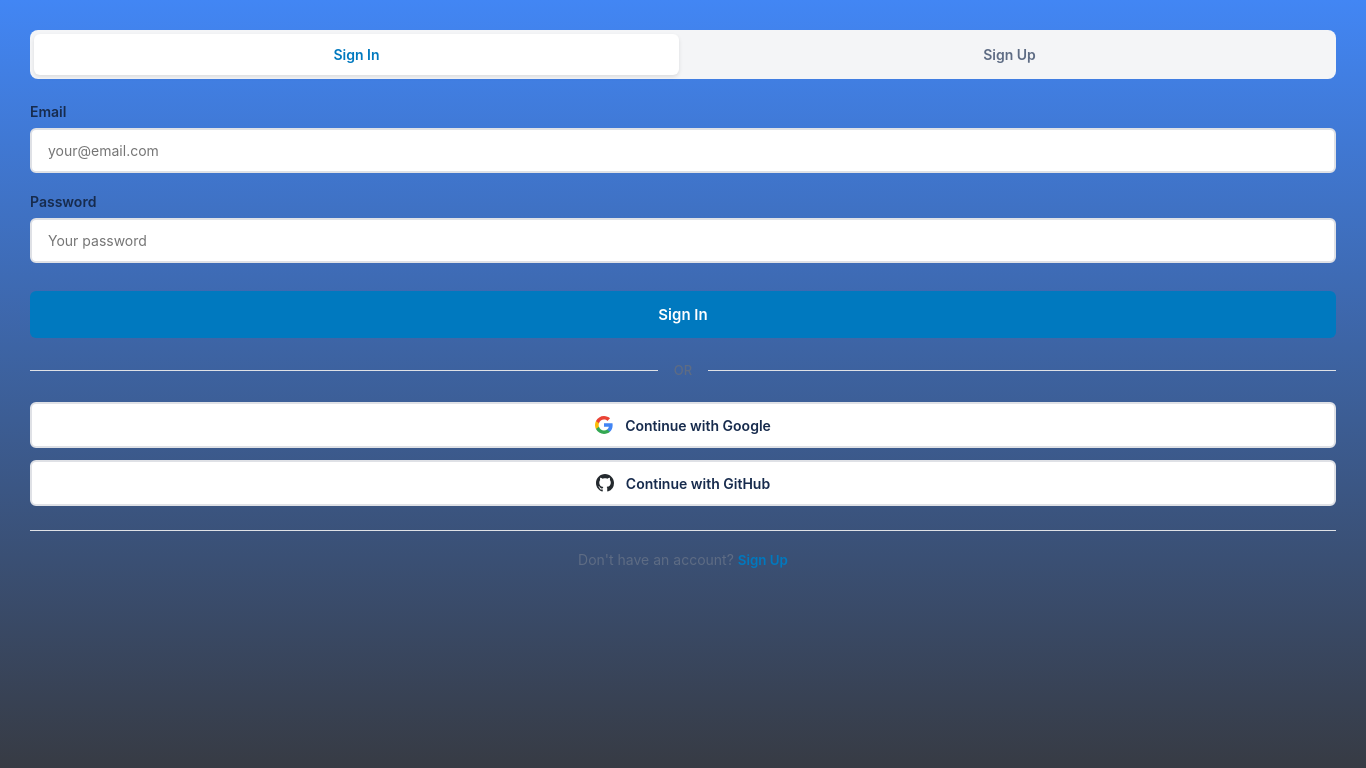
Test: AuthForm › should handle sign up error
Click the 1st button "Sign Up".
click(1010, 54)  # box [687, 34, 1332, 75]
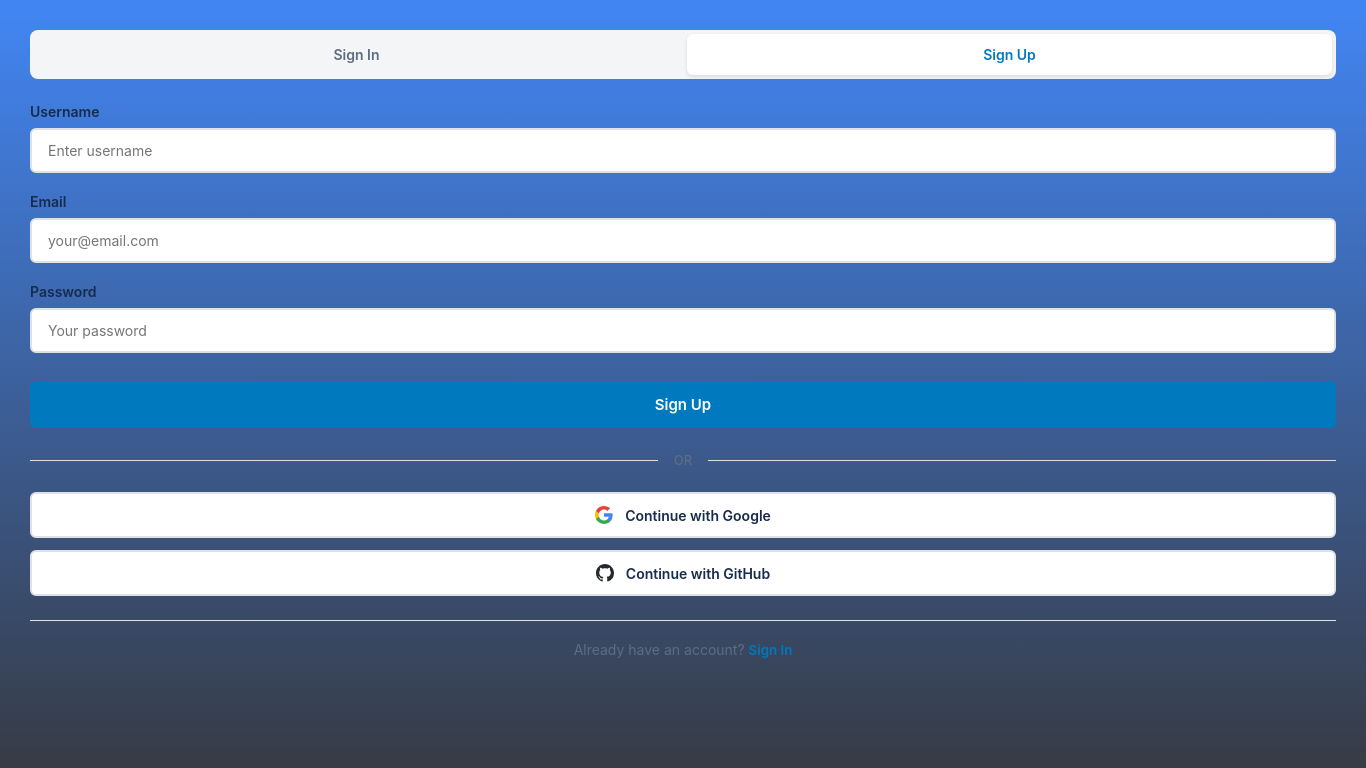
Type "user" into the field labelled "Username".
click(683, 150); type("user")  # box [30, 128, 1336, 173]
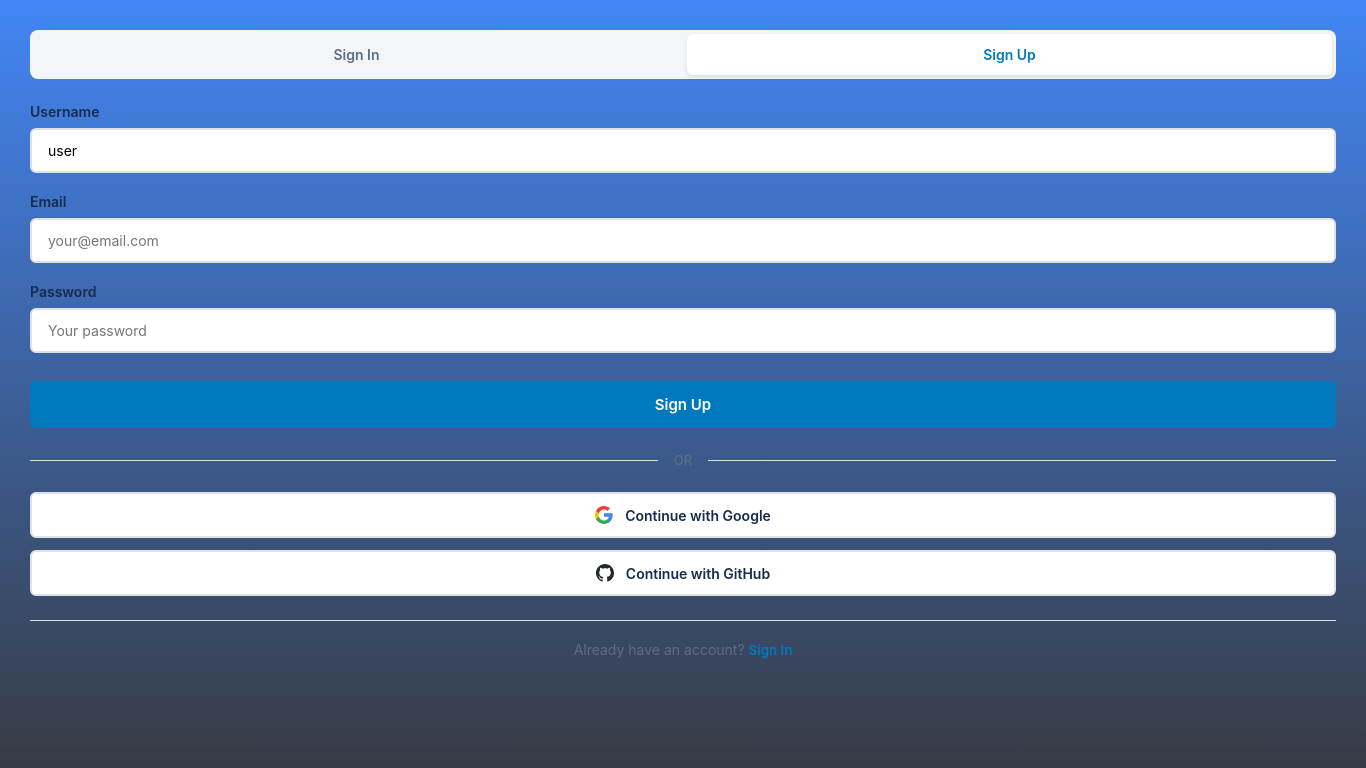
Type "test@test.com" into the field labelled "Email".
click(683, 240); type("test@test.com")  # box [30, 218, 1336, 263]
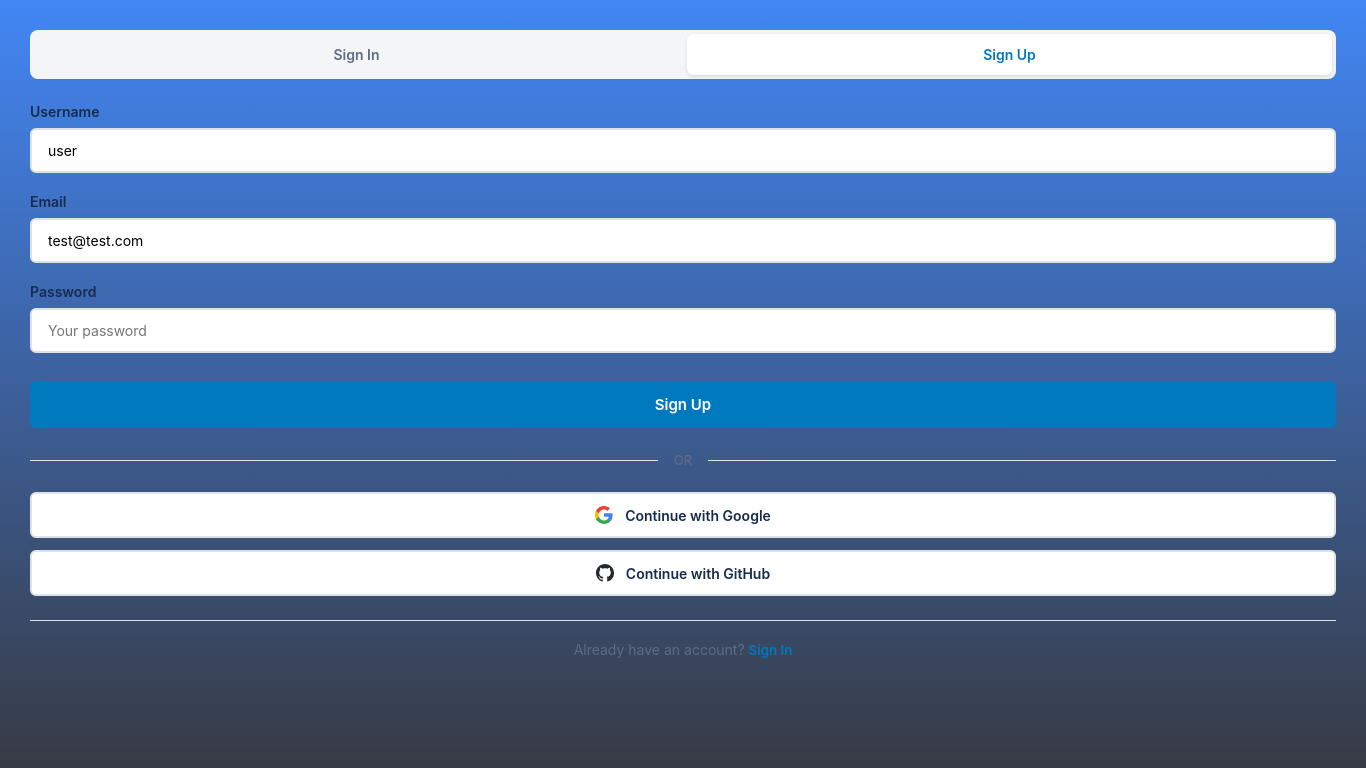
Type "password" into the password field labelled "Password".
click(683, 330); type("password")  # box [30, 308, 1336, 353]
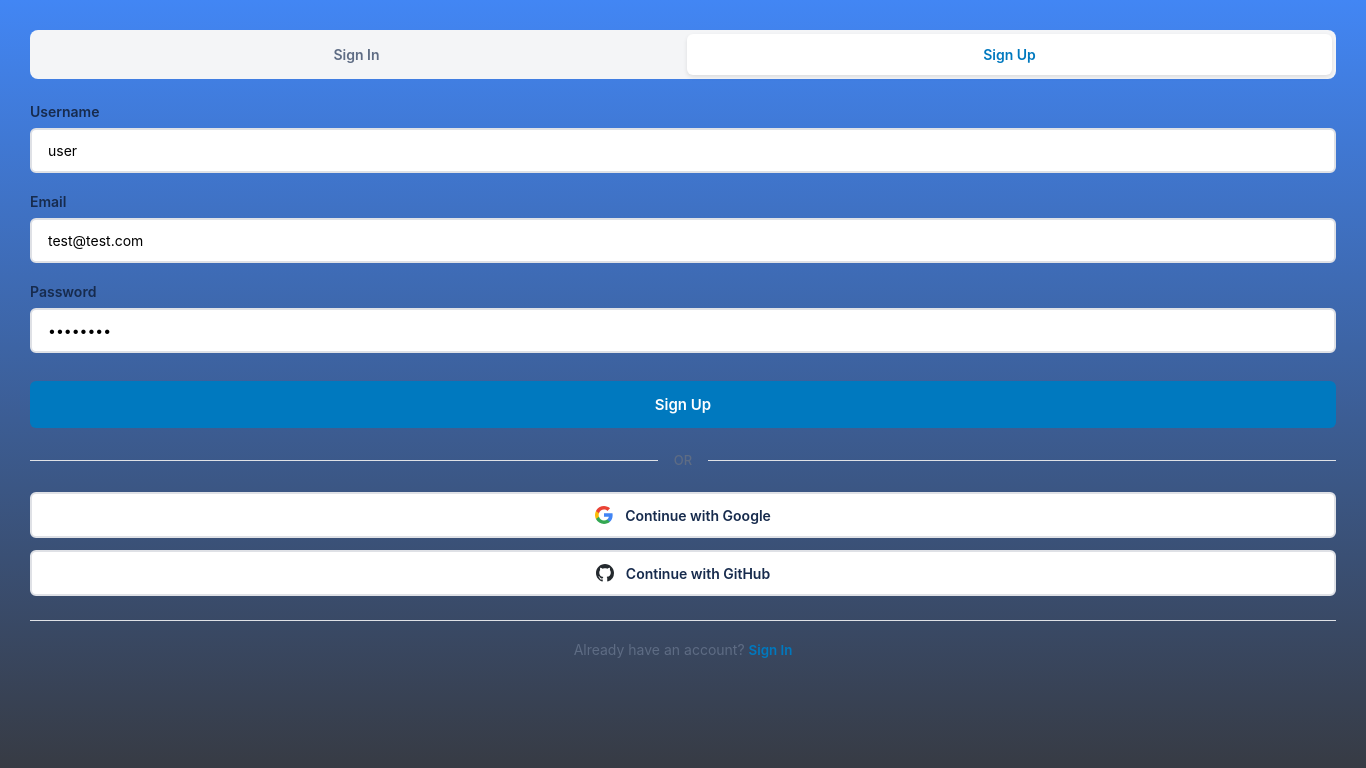
Submit the form with class "auth-form-content", box [30, 103, 1336, 428]
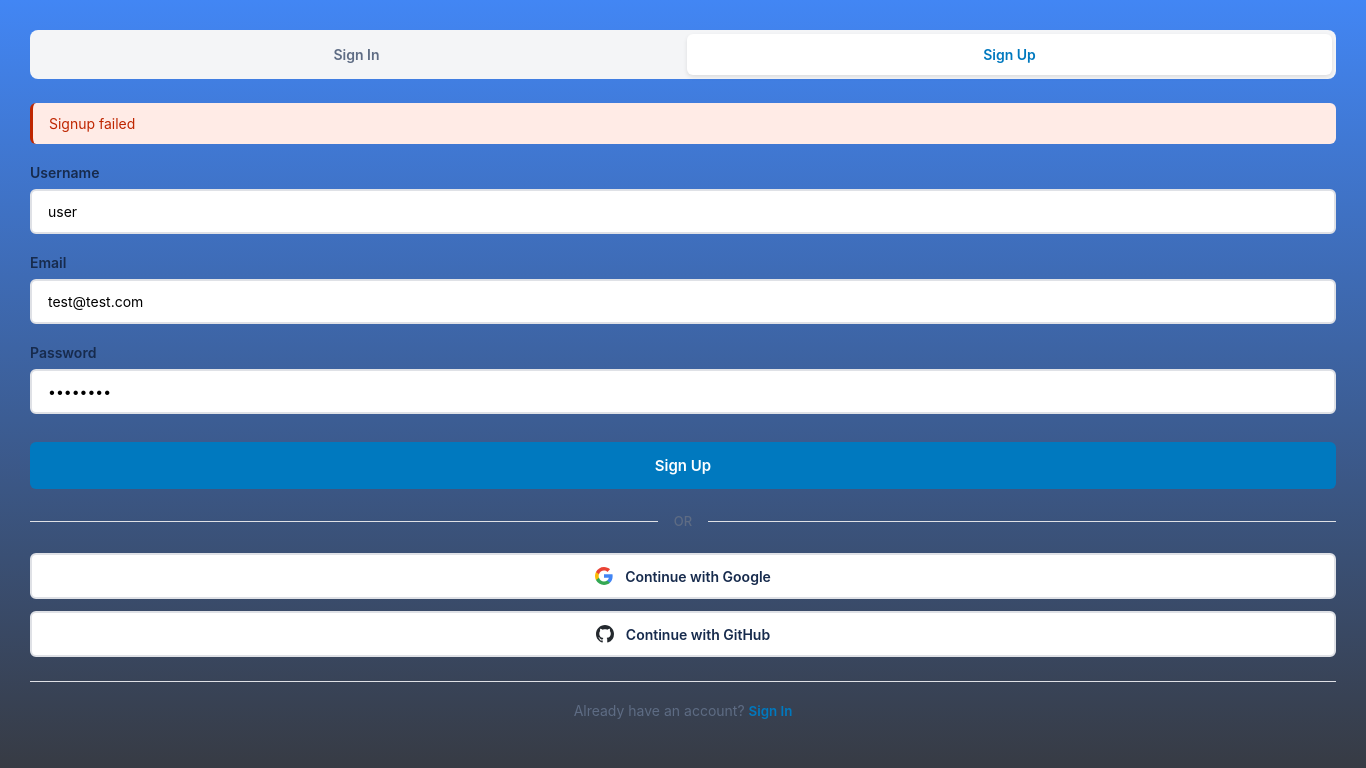
Now the text "Signup failed" is shown, box [30, 103, 1336, 144]
